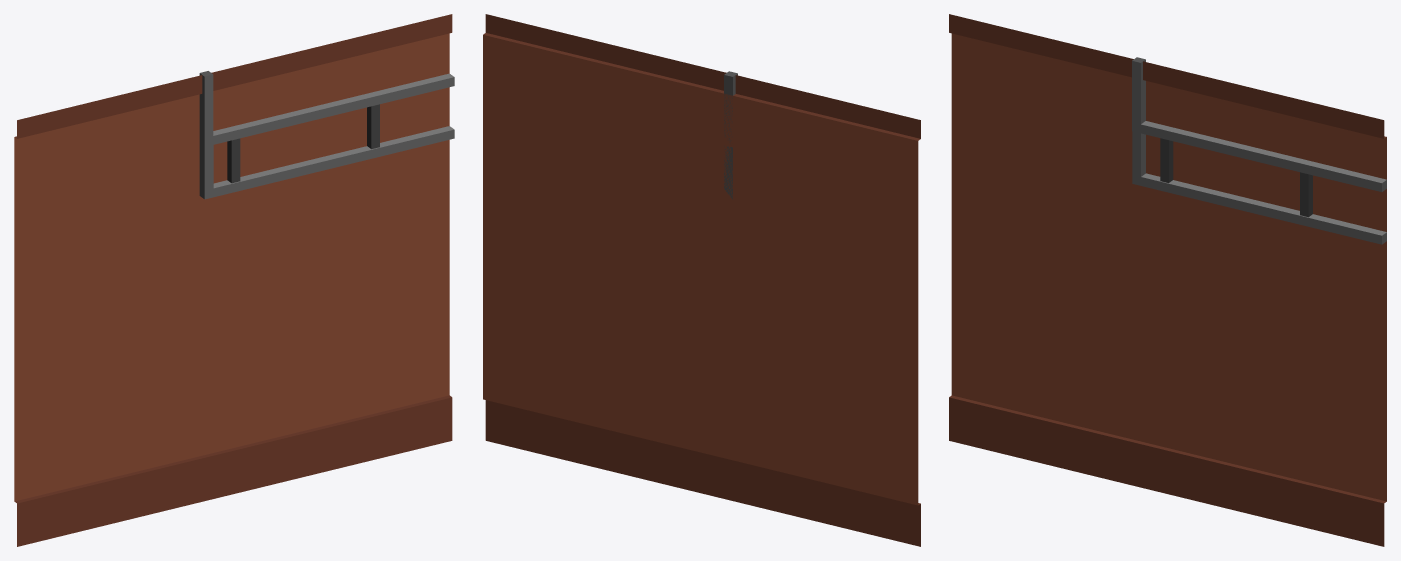
The model's file is AI_Env_Wall_Red_Electronics_Start.fbx.
3 views of the same model, side by side, from view 1: azimuth 30°, elevation 25°; view 2: azimuth 150°, elevation 25°; view 3: azimuth 330°, elevation 25° (orthographic).
Parts seen in each view (by area): view 1: AI_Env_Wall_Red_Electronics_Start; view 2: AI_Env_Wall_Red_Electronics_Start; view 3: AI_Env_Wall_Red_Electronics_Start.
Boxes of the visible parts, bbox=[...] form: AI_Env_Wall_Red_Electronics_Start: bbox=[14, 14, 454, 546]; AI_Env_Wall_Red_Electronics_Start: bbox=[483, 14, 920, 546]; AI_Env_Wall_Red_Electronics_Start: bbox=[949, 14, 1386, 546].
Size of the model in its own units: 5 by 4.69 by 0.0984.
